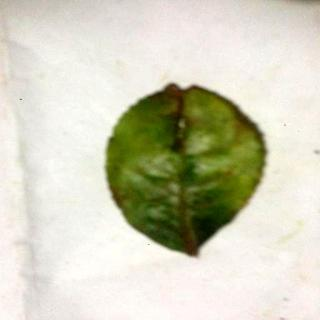Red Leaf Spot: (107, 85, 265, 259)
